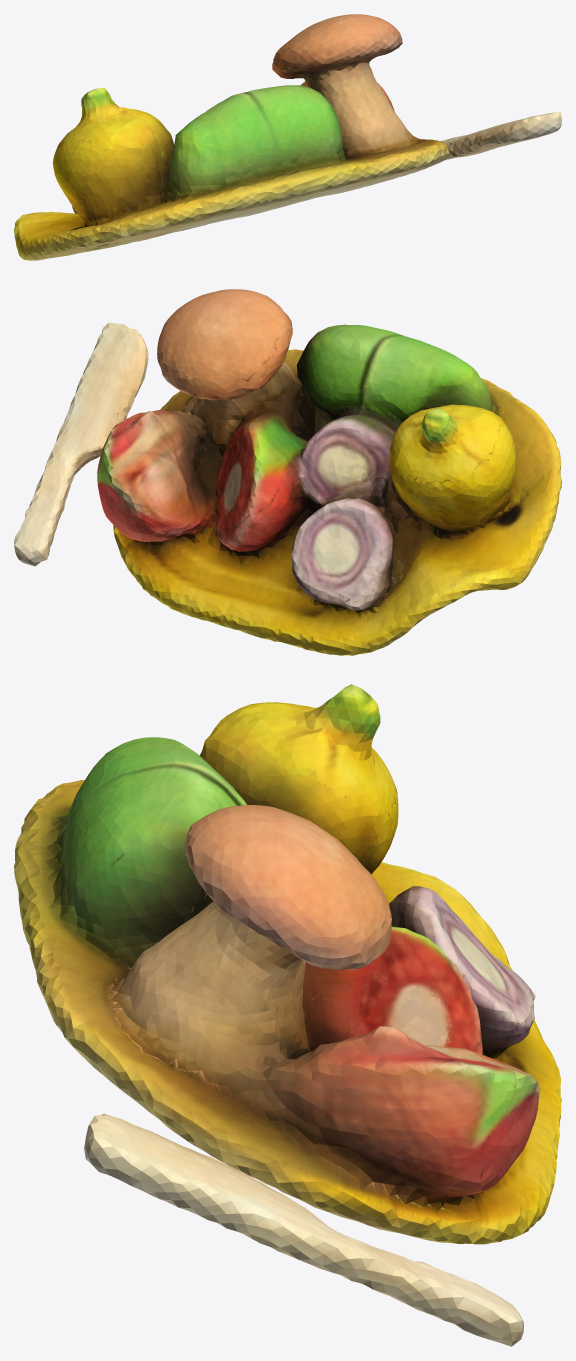
3 views of the same model, one above another, from view 1: azimuth 30°, elevation 25°; view 2: azimuth 150°, elevation 25°; view 3: azimuth 270°, elevation 25° (orthographic). The views are drawn at different scales.
Parts seen in each view (by area): view 1: world; view 2: world; view 3: world.
Part boxes in pixels (left/top/right/bottom): world: left=14, top=14, right=561, bottom=260; world: left=14, top=289, right=561, bottom=655; world: left=14, top=684, right=561, bottom=1346.
Bounding box in the file's own units: 0.989 × 0.4819 × 0.5613.
1 material, 1 textured.
